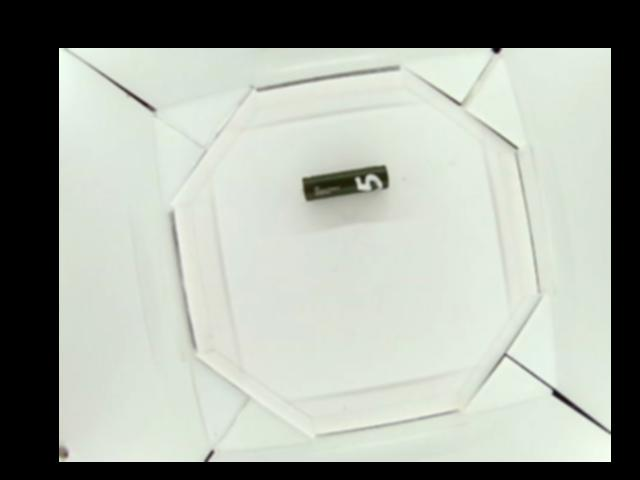Battery: (300, 163, 389, 200)
